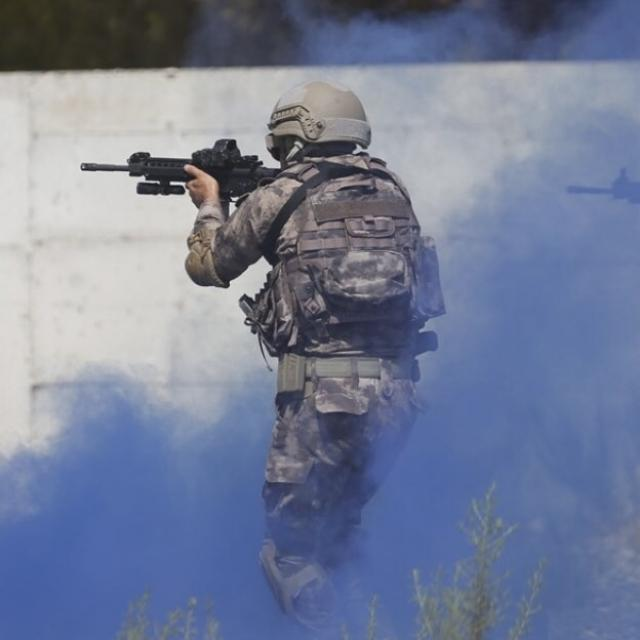poh_personel: (184, 77, 448, 640)
